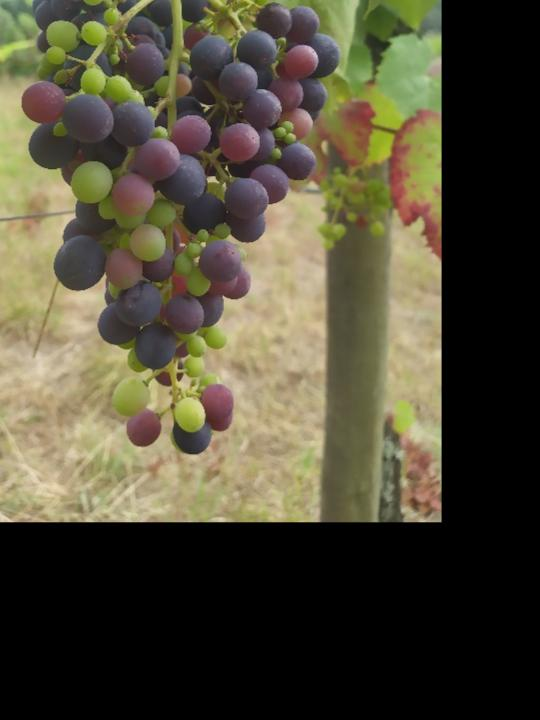grape: (19, 0, 344, 458)
